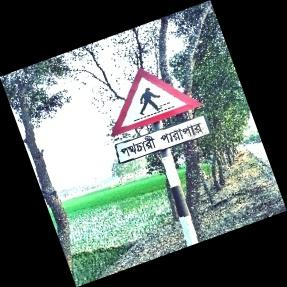Pedestrian-crossing: (111, 68, 209, 167)
